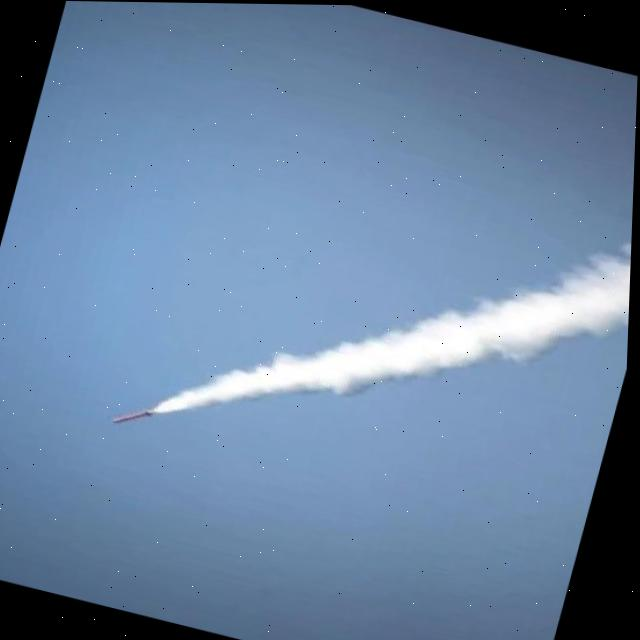missile: (115, 399, 157, 432)
